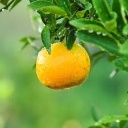orange: (33, 40, 93, 92)
